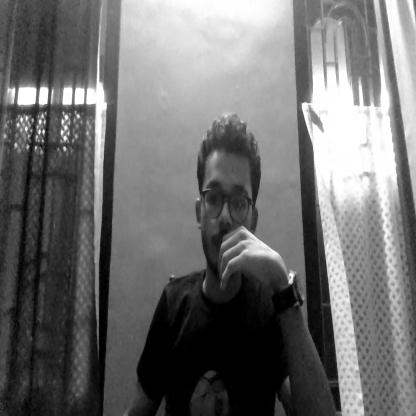Normal: (185, 112, 261, 287)
